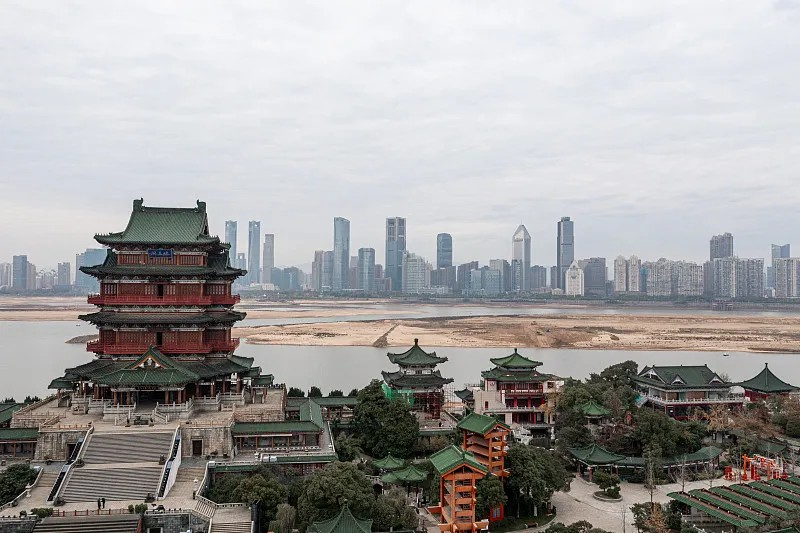Teng: (48, 196, 274, 406)
